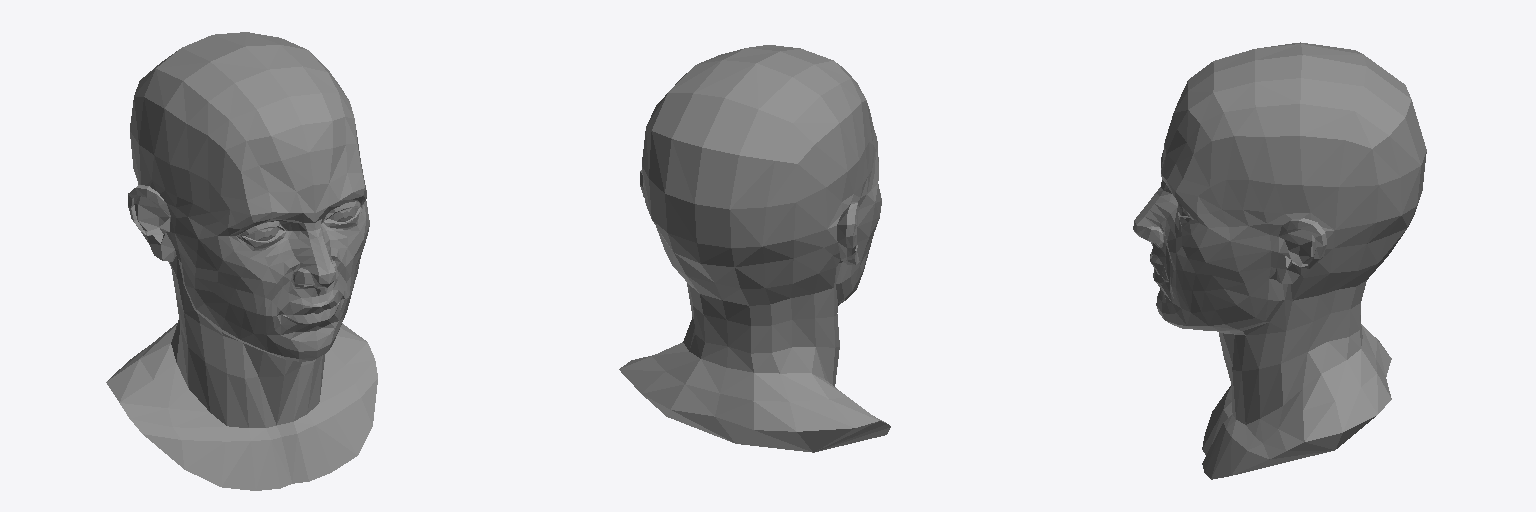
3 views of the same model, side by side, from view 1: azimuth 30°, elevation 25°; view 2: azimuth 150°, elevation 25°; view 3: azimuth 270°, elevation 25° (orthographic).
Visible parts, largest first — view 1: Figure_1; view 2: Figure_1; view 3: Figure_1.
Part boxes in pixels (x1,y1,x2,y2): Figure_1: (106, 32, 377, 490); Figure_1: (619, 45, 890, 452); Figure_1: (1133, 42, 1426, 479).
Size of the model in its own units: 22.21 by 34.36 by 22.75.